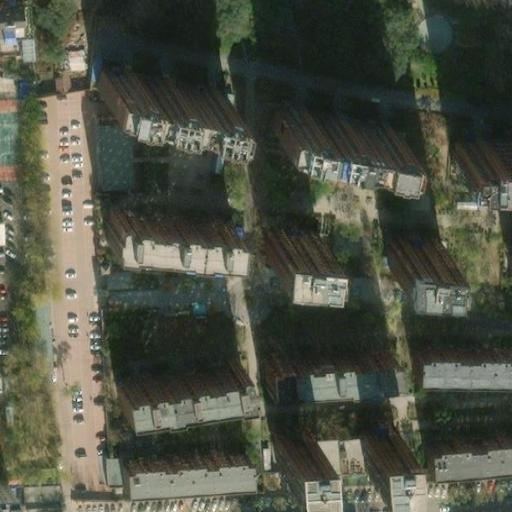building: (87, 64, 218, 111), (259, 97, 389, 144), (116, 365, 245, 412), (256, 335, 385, 372), (100, 201, 224, 239), (112, 437, 240, 471), (407, 336, 512, 365), (419, 423, 512, 454), (94, 118, 133, 187), (309, 429, 359, 468), (443, 137, 512, 164), (250, 213, 304, 247), (375, 225, 430, 255), (271, 432, 311, 470), (357, 427, 393, 466), (0, 1, 28, 38), (501, 237, 512, 264)
